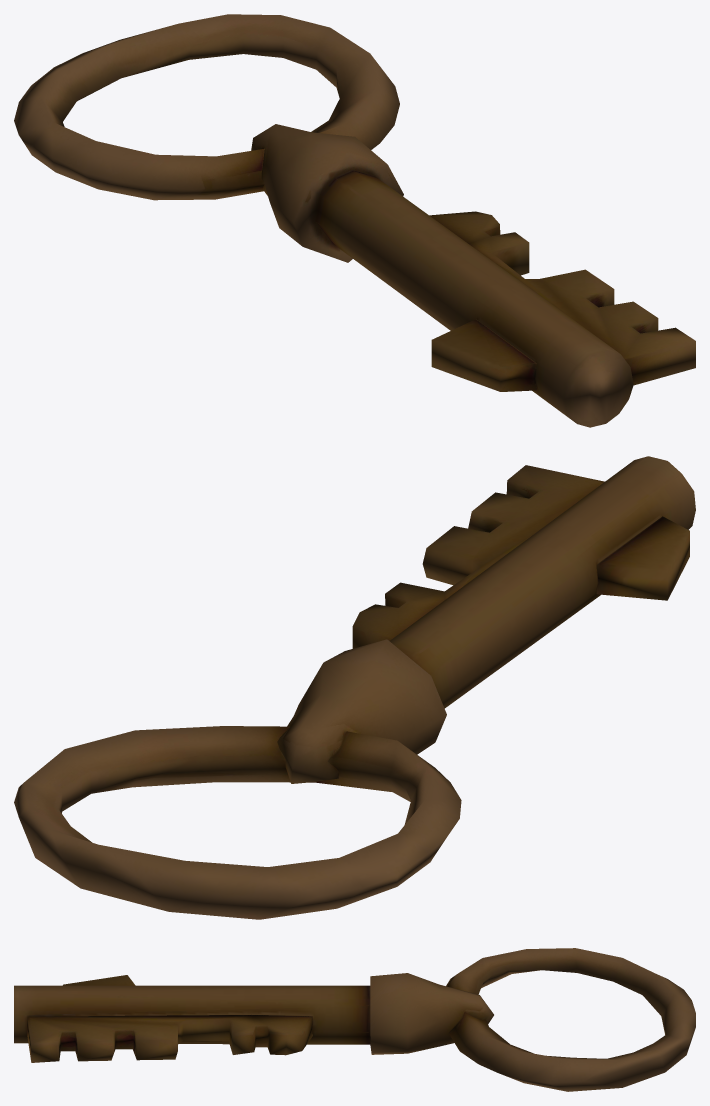
Rendered from Key yellow 1.fbx.
3 views of the same model, one above another, from view 1: azimuth 30°, elevation 25°; view 2: azimuth 150°, elevation 25°; view 3: azimuth 270°, elevation 25° (orthographic). The views are drawn at different scales.
Visible parts, largest first — view 1: tripo_node_5a98b402-e2d9-4540-b1e6-fc403a9c8b4f; view 2: tripo_node_5a98b402-e2d9-4540-b1e6-fc403a9c8b4f; view 3: tripo_node_5a98b402-e2d9-4540-b1e6-fc403a9c8b4f.
Boxes of the visible parts, <box> form: tripo_node_5a98b402-e2d9-4540-b1e6-fc403a9c8b4f: <box>14,14,695,427</box>; tripo_node_5a98b402-e2d9-4540-b1e6-fc403a9c8b4f: <box>14,456,695,919</box>; tripo_node_5a98b402-e2d9-4540-b1e6-fc403a9c8b4f: <box>14,948,695,1091</box>.
Size of the model in its own units: 42.77 by 12.7 by 99.8.
Materials: 1 (1 with a texture image).
